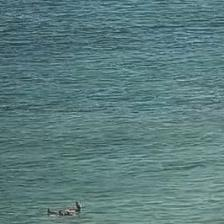surfer: (59, 210, 73, 216), (75, 201, 82, 212), (47, 208, 58, 214)
